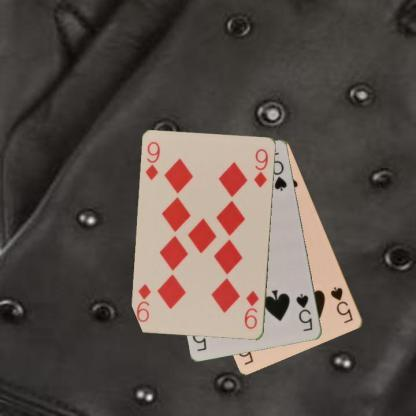5s: (328, 284, 354, 325), (294, 291, 314, 333)
9d: (142, 140, 161, 182), (242, 288, 260, 330)
